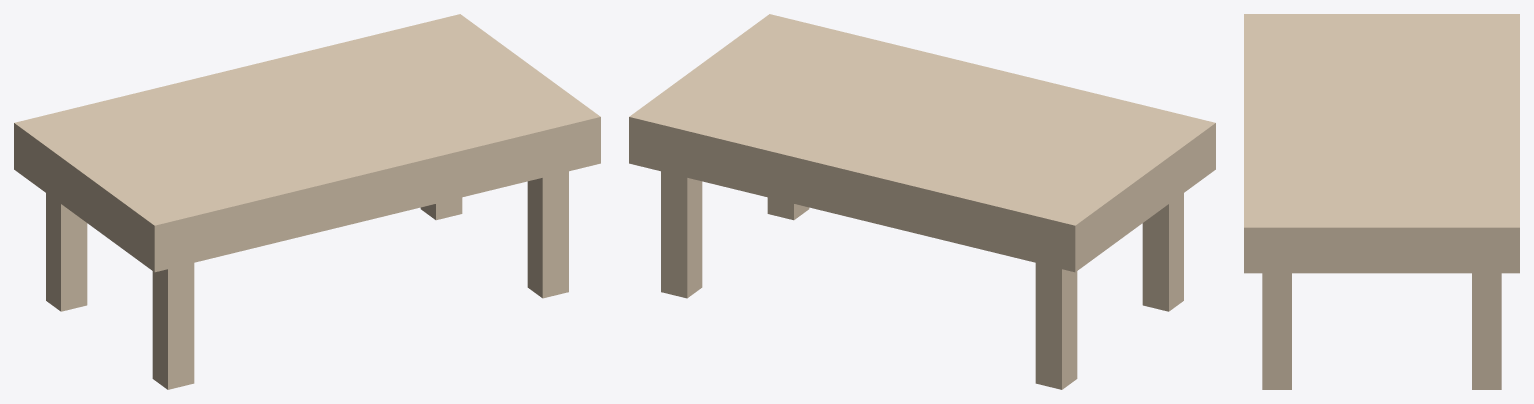
Rendered from demo-oak-stone-table.gltf.
3 renders of one model, left to right at view 1: azimuth 30°, elevation 25°; view 2: azimuth 150°, elevation 25°; view 3: azimuth 270°, elevation 25°, orthographic.
Visible parts, largest first — view 1: top, leg (×4); view 2: top, leg (×4); view 3: top, leg (×2).
Boxes of the visible parts, box(x1,y1,x2,y2) form: top: box(14, 14, 600, 272); leg (×4): box(46, 171, 568, 389); top: box(629, 14, 1215, 272); leg (×4): box(661, 171, 1183, 389); top: box(1244, 14, 1519, 273); leg (×2): box(1262, 273, 1501, 389).
Bounding box in the file's own units: 1.1 × 0.4158 × 0.6.
